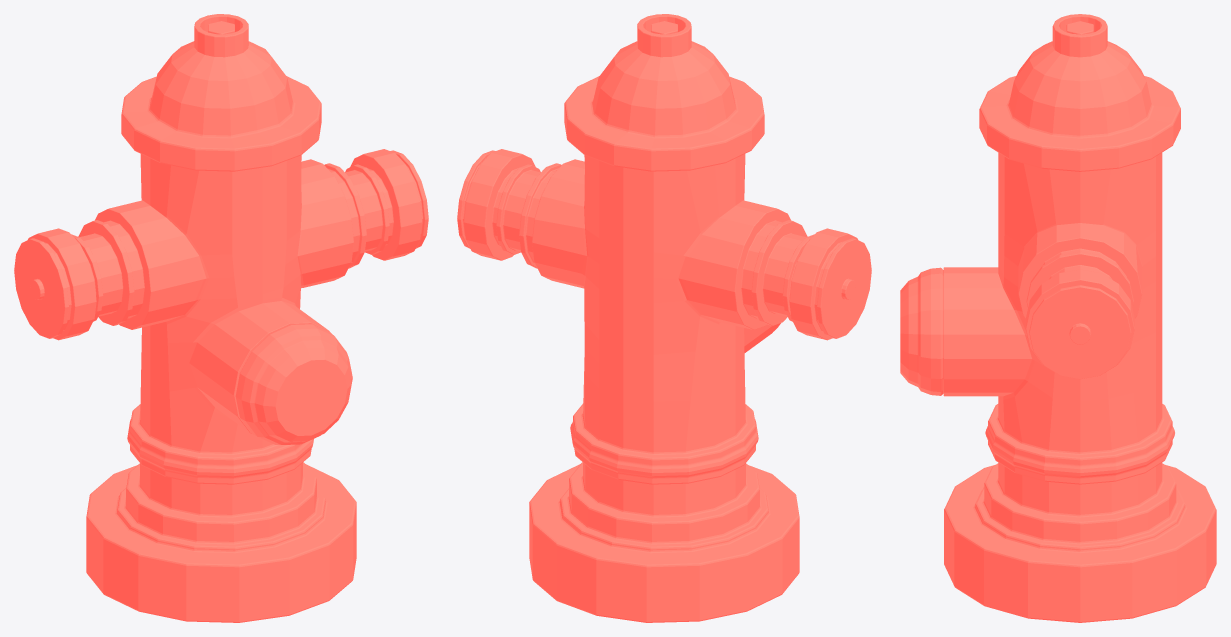
Rendered from 消防栓.glb.
3 views of the same model, side by side, from view 1: azimuth 30°, elevation 25°; view 2: azimuth 150°, elevation 25°; view 3: azimuth 270°, elevation 25° (orthographic).
Visible parts, largest first — view 1: Sphere001; view 2: Sphere001; view 3: Sphere001.
Boxes of the visible parts, x1,y1,x2,y2 form: Sphere001: [14, 14, 428, 622]; Sphere001: [457, 14, 871, 622]; Sphere001: [900, 14, 1216, 622].
Size of the model in its own units: 0.5621 by 0.78 by 0.4131.
